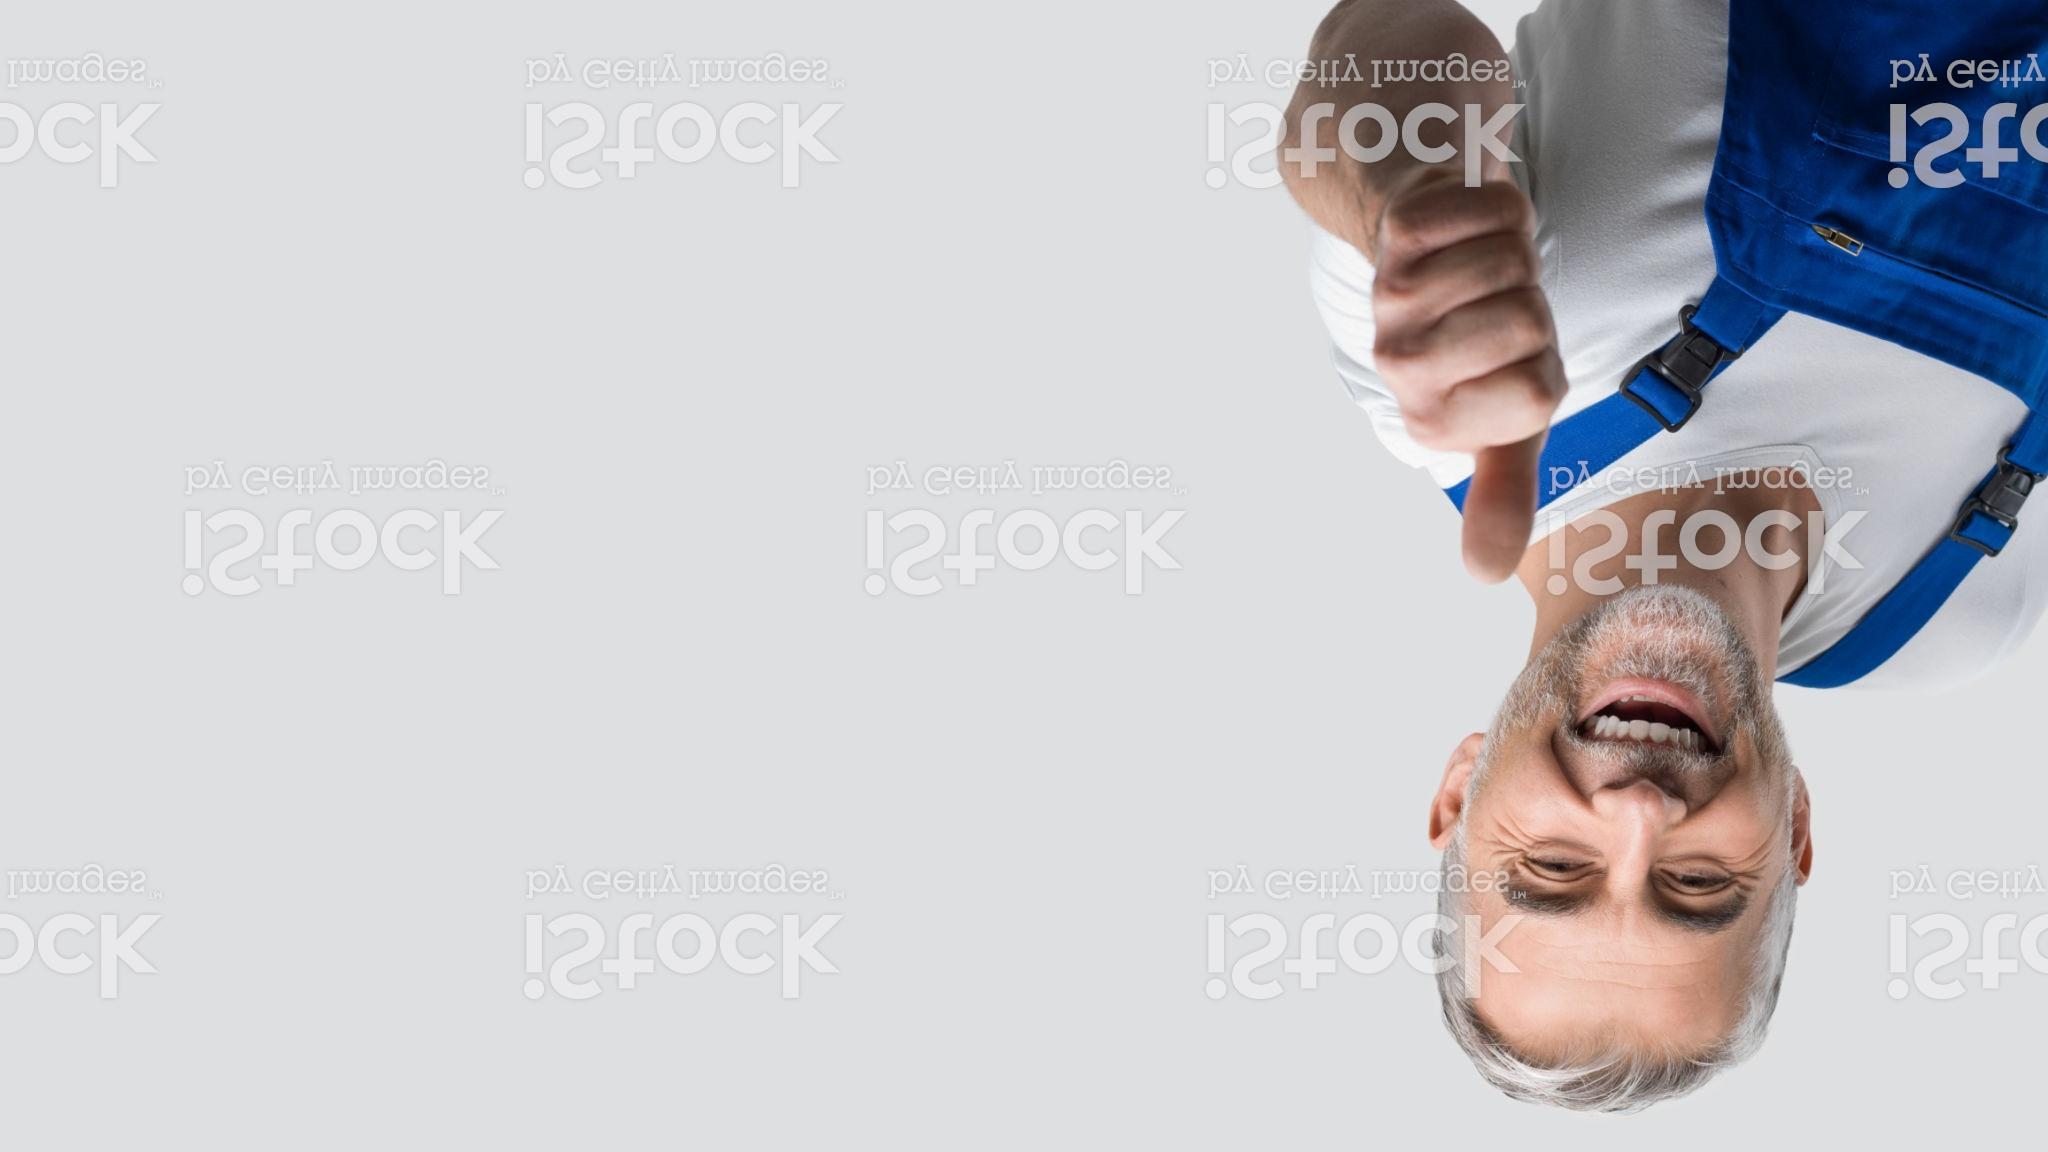thumbsdown: (1369, 169, 1573, 585)
